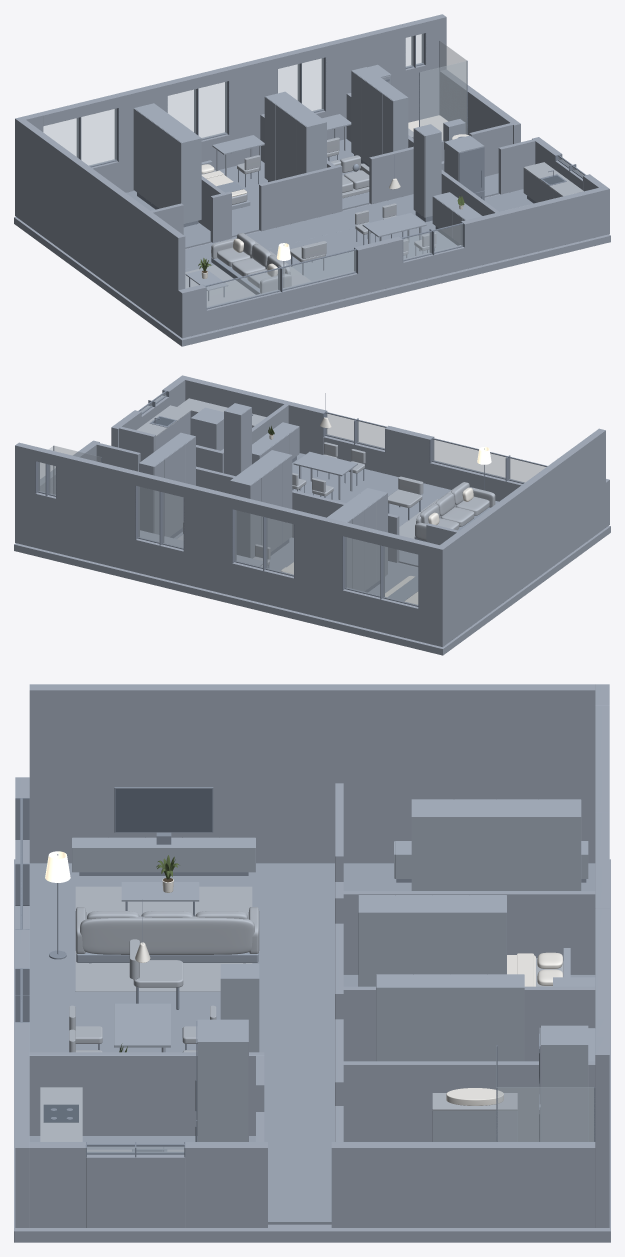
File: interior.glb
The picture shows the model from 3 angles, top to bottom: view 1: azimuth 30°, elevation 25°; view 2: azimuth 150°, elevation 25°; view 3: azimuth 270°, elevation 25°; orthographic projection. The views are drawn at different scales.
Visible parts, largest first — view 1: W03 W03.002, W01 W01.016, Presentation foundation Presentation foundation, W02 W02.031, W05 W05.016, W01 W01.013, R07 floor R07 floor, W02 W02.028, R01 floor R01 floor, WIN01 glazing WIN01 glazing.001, DETAIL-SHOWER shower glass front, W04 W04.013 (+53 smaller); view 2: W03 W03.002, W02 W02.031, Presentation foundation Presentation foundation, W02 W02.025, W02 W02.028, WIN03 glazing WIN03 glazing.001, W01 W01.016, W02 W02.022, R01 floor R01 floor, WIN04 glazing WIN04 glazing.001, W02 W02.023, WIN05 glazing WIN05 glazing.001 (+51 smaller); view 3: W03 W03.002, R07 floor R07 floor, W04 W04.013, R01 floor R01 floor, J01 carcass, J04 carcass, W09 W09.002, J02 carcass, W08 W08.002, Presentation foundation Presentation foundation, W06 W06.002, W04 W04.011 (+29 smaller).
Part boxes in pixels (x1,y1,x2,y2): W03 W03.002: (19,120,185,334); W01 W01.016: (461,186,609,269); Presentation foundation Presentation foundation: (14,194,610,346); W02 W02.031: (322,24,405,140); W05 W05.016: (259,164,342,231); W01 W01.013: (206,271,358,332); R07 floor R07 floor: (185,173,499,269); W02 W02.028: (225,55,277,167); R01 floor R01 floor: (185,213,456,280); WIN01 glazing WIN01 glazing.001: (207,250,355,307); DETAIL-SHOWER shower glass front: (420,61,466,140); W04 W04.013: (440,70,520,143); W03 W03.002: (440,428,605,643); W02 W02.031: (56,452,139,572); Presentation foundation Presentation foundation: (14,525,610,655); W02 W02.025: (294,511,346,622); W02 W02.028: (184,484,235,595); WIN03 glazing WIN03 glazing.001: (345,537,417,605); W01 W01.016: (178,375,326,454); W02 W02.022: (418,541,446,646); R01 floor R01 floor: (292,453,498,526); WIN04 glazing WIN04 glazing.001: (235,510,293,575); W02 W02.023: (342,587,418,641); WIN05 glazing WIN05 glazing.001: (138,486,183,548); W03 W03.002: (29,684,595,863); R07 floor R07 floor: (264,863,334,1224); W04 W04.013: (331,1142,595,1227); R01 floor R01 floor: (29,863,264,1052); J01 carcass: (411,799,581,890); J04 carcass: (376,974,524,1061); W09 W09.002: (29,1052,264,1135); J02 carcass: (358,895,506,986); W08 W08.002: (343,1061,595,1141); Presentation foundation Presentation foundation: (14,859,610,1242); W06 W06.002: (343,891,595,974); W04 W04.011: (86,1151,185,1227).
Bounding box in the file's own units: 12.44 × 2.92 × 8.44.
